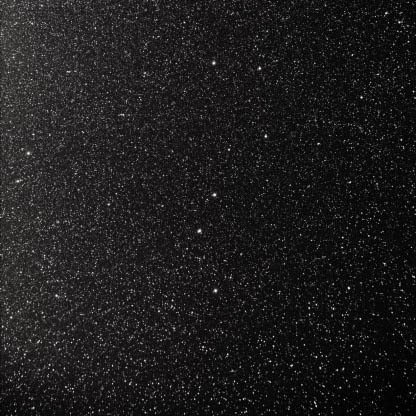Ursa Major: (194, 271, 227, 299), (184, 221, 214, 245), (199, 47, 225, 74), (216, 135, 240, 163), (203, 183, 227, 208), (250, 55, 270, 82), (256, 123, 276, 147)
